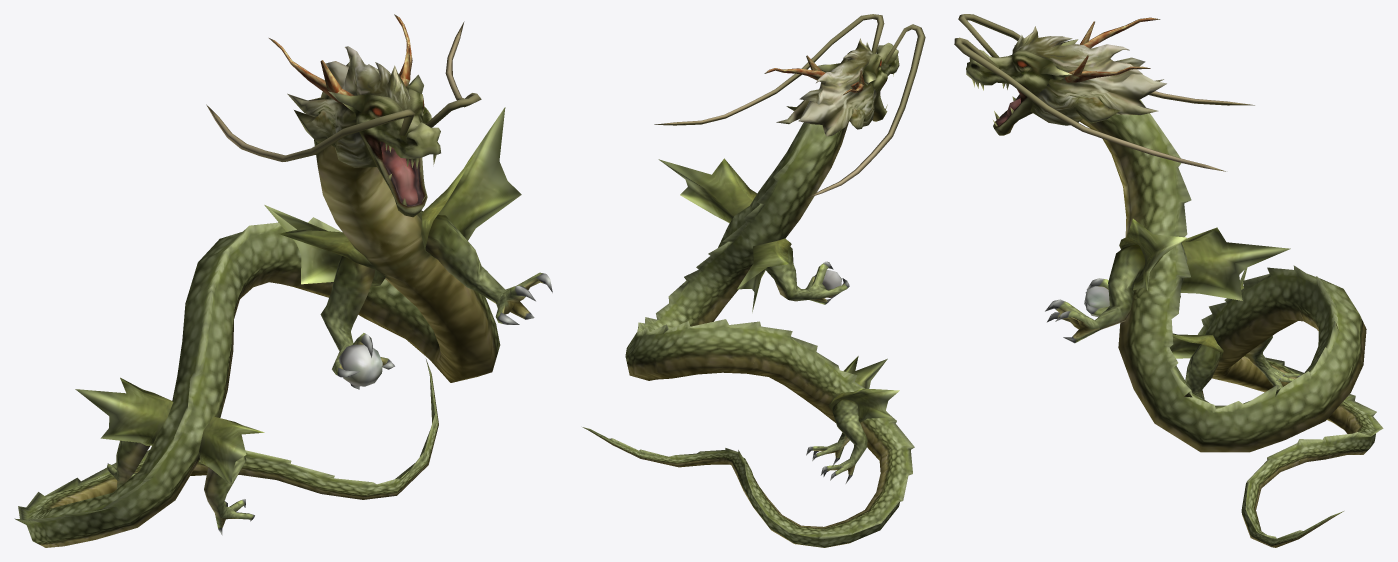
Rendered from Lung.fbx.
The picture shows the model from 3 angles, left to right: view 1: azimuth 30°, elevation 25°; view 2: azimuth 150°, elevation 25°; view 3: azimuth 270°, elevation 25°; orthographic projection. The views are drawn at different scales.
Visible parts, largest first — view 1: Body, Hair; view 2: Body, Hair; view 3: Body, Hair.
Boxes of the visible parts, left/top/right/bottom form: Body: left=14, top=21, right=552, bottom=547; Hair: left=75, top=14, right=521, bottom=485; Body: left=582, top=14, right=925, bottom=547; Hair: left=658, top=38, right=899, bottom=422; Body: left=954, top=14, right=1383, bottom=547; Hair: left=972, top=17, right=1290, bottom=359.
Size of the model in its own units: 1399 by 1755 by 1461.
2 materials, 2 textured.
